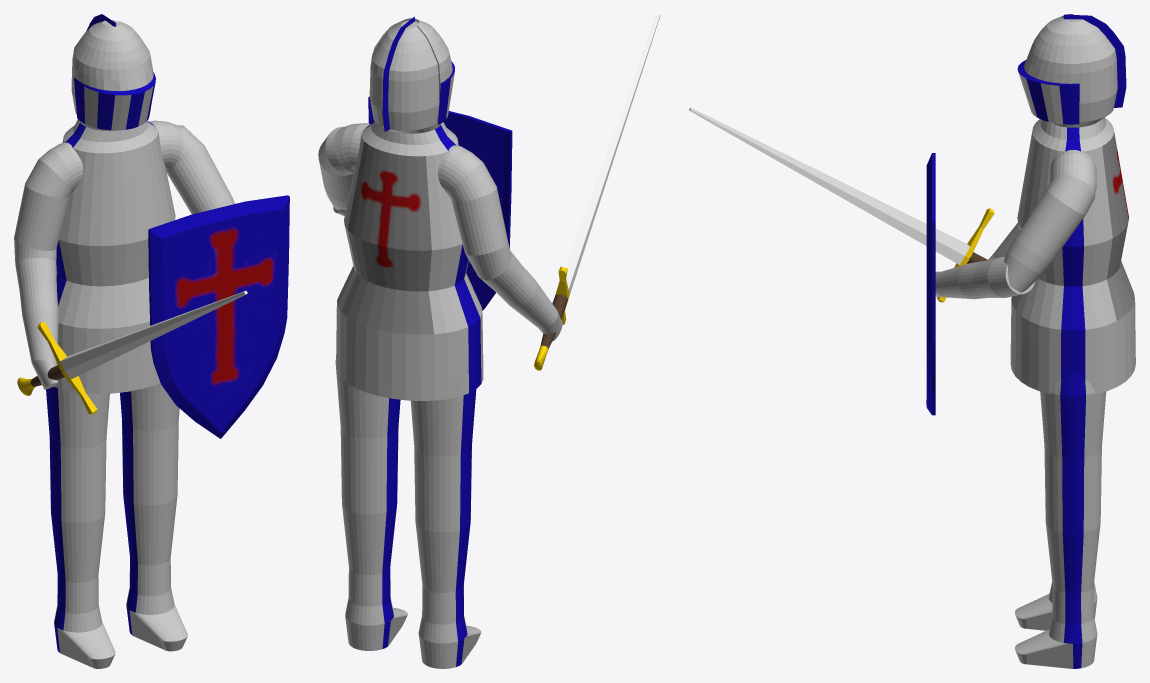
Rendered from Рыцарь3.fbx.
The picture shows the model from 3 angles, left to right: view 1: azimuth 30°, elevation 25°; view 2: azimuth 150°, elevation 25°; view 3: azimuth 270°, elevation 25°; orthographic projection.
Visible parts, largest first — view 1: Цилиндр.072, Куб.017, Цилиндр.081, Цилиндр.080, Цилиндр.083, Цилиндр.082, Цилиндр.075, Цилиндр.077, Цилиндр.076, Цилиндр.079, Цилиндр.074, Цилиндр.073; view 2: Цилиндр.072, Цилиндр.081, Цилиндр.082, Цилиндр.083, Цилиндр.080, Цилиндр.077, Куб.017, Цилиндр.075, Цилиндр.076, Цилиндр.079, Цилиндр.074, Цилиндр.073; view 3: Цилиндр.072, Цилиндр.082, Цилиндр.083, Цилиндр.079, Цилиндр.075, Цилиндр.078, Куб.017, Цилиндр.080, Цилиндр.073.
Part boxes in pixels (x1,y1,x2,y2): Цилиндр.072: (53, 14, 175, 393); Куб.017: (148, 195, 289, 438); Цилиндр.081: (46, 386, 109, 523); Цилиндр.080: (51, 513, 115, 668); Цилиндр.083: (123, 495, 187, 651); Цилиндр.082: (120, 383, 179, 505); Цилиндр.075: (17, 291, 247, 414); Цилиндр.077: (14, 159, 71, 263); Цилиндр.076: (15, 258, 58, 389); Цилиндр.079: (166, 125, 235, 214); Цилиндр.074: (39, 142, 83, 191); Цилиндр.073: (149, 120, 183, 169); Цилиндр.072: (336, 16, 483, 400); Цилиндр.081: (410, 389, 476, 532); Цилиндр.082: (335, 360, 400, 514); Цилиндр.083: (342, 504, 407, 650); Цилиндр.080: (415, 523, 481, 668); Цилиндр.077: (449, 162, 511, 280); Куб.017: (368, 96, 512, 310); Цилиндр.075: (534, 14, 660, 370); Цилиндр.076: (481, 251, 562, 341); Цилиндр.079: (318, 126, 353, 210); Цилиндр.074: (438, 145, 482, 195); Цилиндр.073: (332, 123, 370, 172); Цилиндр.072: (1010, 14, 1135, 394); Цилиндр.082: (1040, 373, 1106, 533); Цилиндр.083: (1015, 523, 1100, 668); Цилиндр.079: (1004, 173, 1096, 292); Цилиндр.075: (689, 107, 994, 302); Цилиндр.078: (935, 257, 1034, 299); Куб.017: (926, 153, 935, 415); Цилиндр.080: (1015, 582, 1097, 630); Цилиндр.073: (1050, 150, 1096, 190).
Size of the model in its own units: 42.79 by 114 by 73.79.
